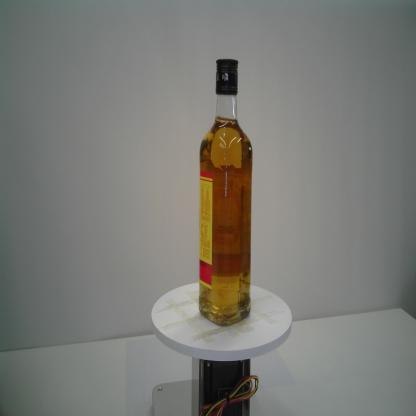Seasoner: (198, 57, 252, 326)
